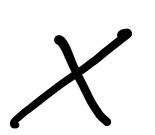mult: (11, 29, 133, 127)
